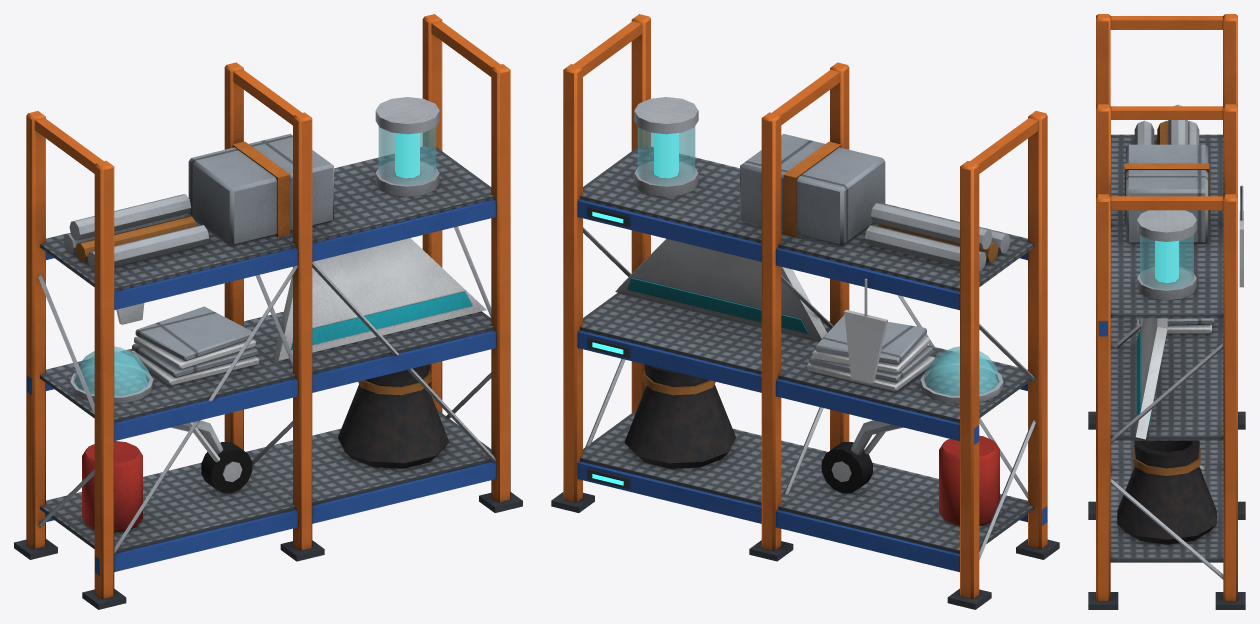
The model's file is rack_piezas_nave.fbx.
The picture shows the model from 3 angles, left to right: view 1: azimuth 30°, elevation 25°; view 2: azimuth 150°, elevation 25°; view 3: azimuth 270°, elevation 25°; orthographic projection. The views are drawn at different scales.
Visible parts, largest first — view 1: rack_piezas_nave, rack_piezas_nave_cristal, rack_piezas_nave_neon; view 2: rack_piezas_nave, rack_piezas_nave_cristal, rack_piezas_nave_neon; view 3: rack_piezas_nave, rack_piezas_nave_cristal, rack_piezas_nave_neon.
Boxes of the visible parts, bbox=[...] form: rack_piezas_nave: bbox=[14, 14, 522, 609]; rack_piezas_nave_cristal: bbox=[73, 126, 436, 396]; rack_piezas_nave_neon: bbox=[395, 133, 419, 178]; rack_piezas_nave: bbox=[551, 14, 1059, 609]; rack_piezas_nave_cristal: bbox=[637, 126, 1000, 396]; rack_piezas_nave_neon: bbox=[592, 133, 678, 485]; rack_piezas_nave: bbox=[1088, 14, 1245, 609]; rack_piezas_nave_cristal: bbox=[1140, 234, 1193, 289]; rack_piezas_nave_neon: bbox=[1155, 240, 1178, 282].
Size of the model in its own units: 6.1 by 6 by 2.1.
Materials: 3 (3 with a texture image).
